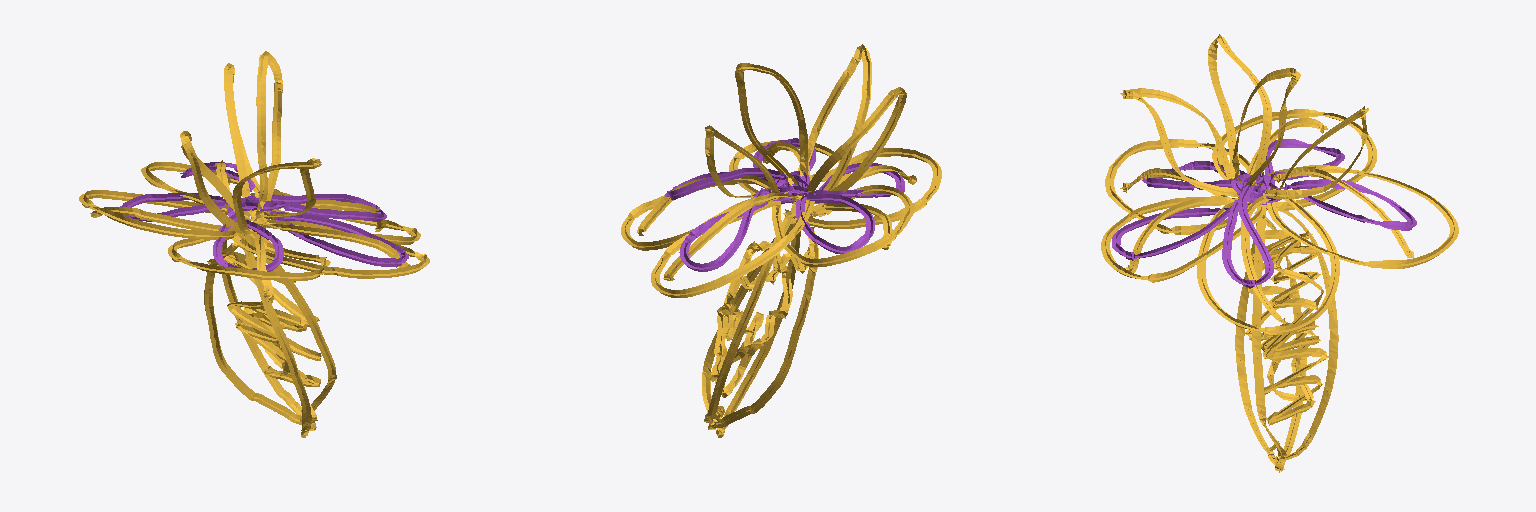
3 views of the same model, side by side, from view 1: azimuth 30°, elevation 25°; view 2: azimuth 150°, elevation 25°; view 3: azimuth 270°, elevation 25° (orthographic).
Bounding box in the file's own units: 0.759 × 0.9472 × 0.7892.
Materials: 1 (1 with a texture image).